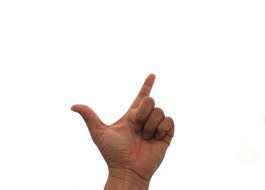pointing_gesture: (73, 72, 175, 184)
